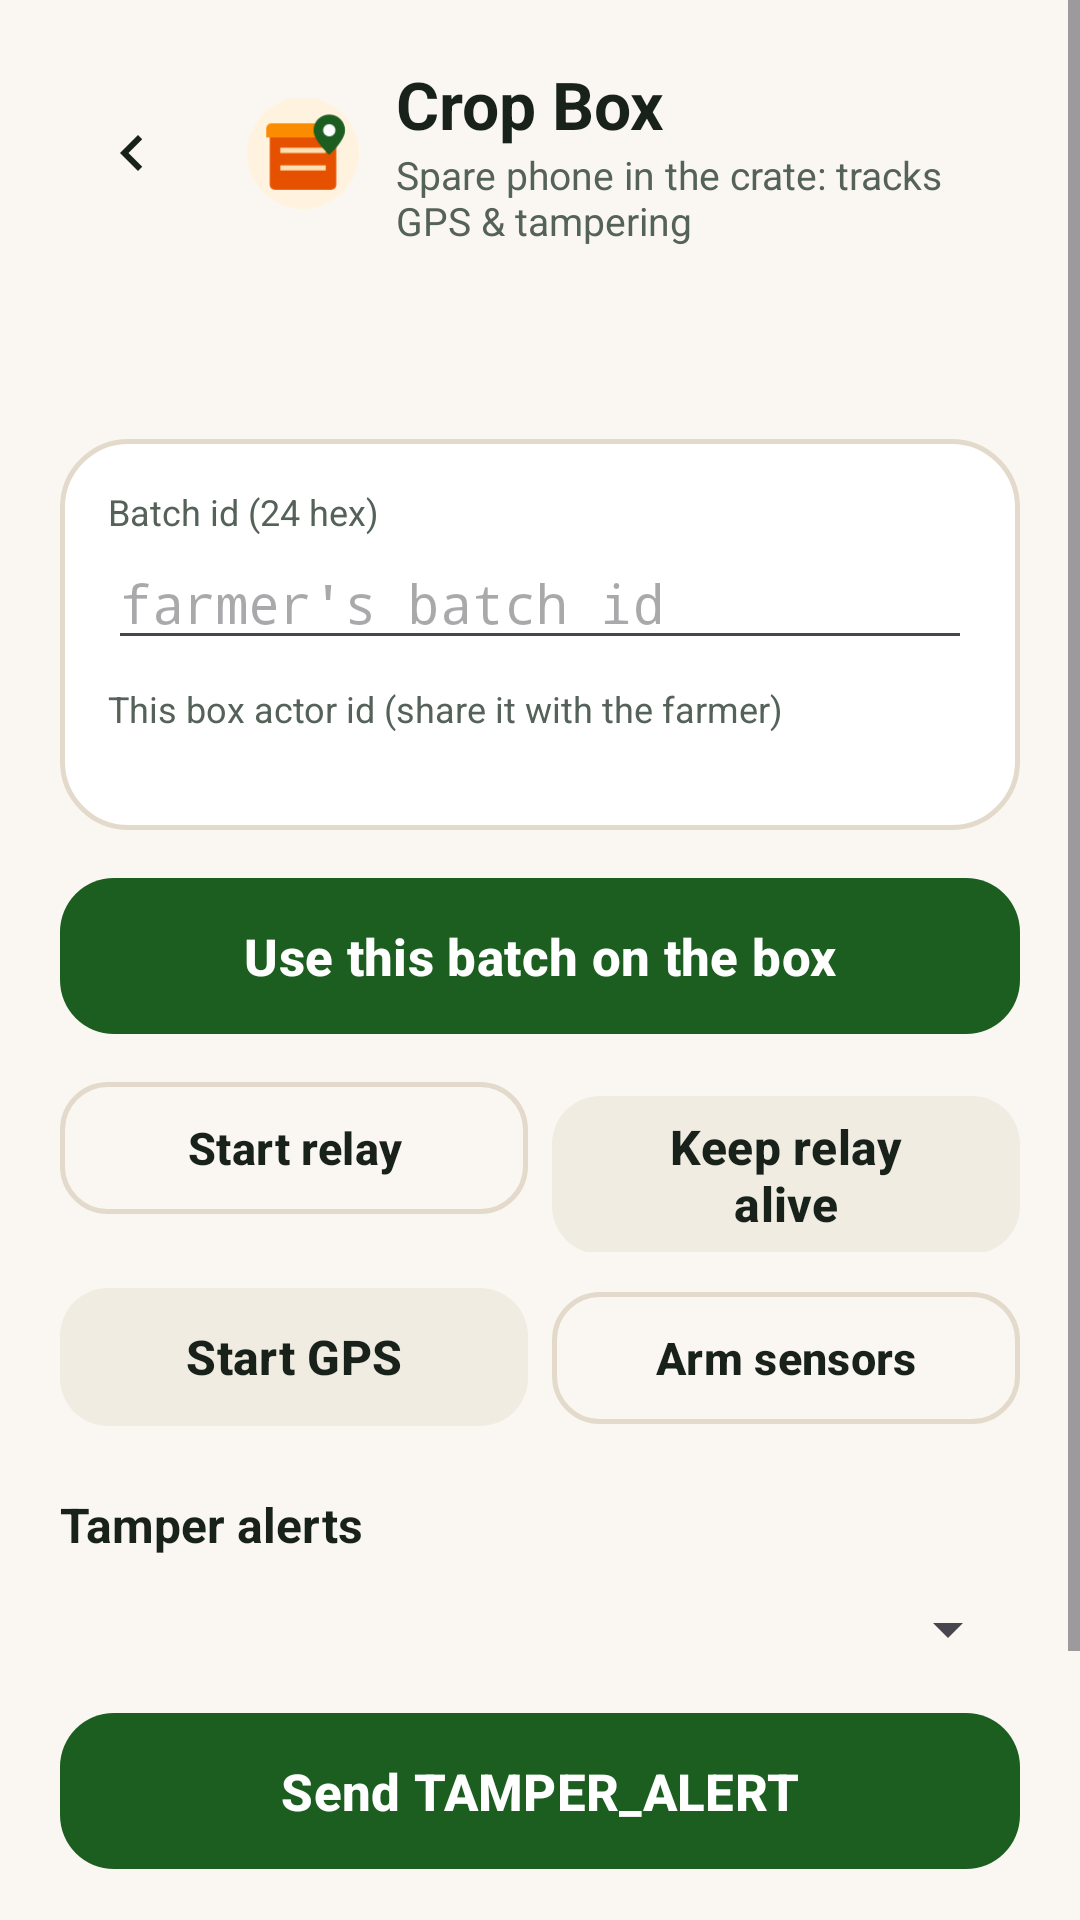

Icons on this 1080 × 1920 Android screen, each with the point to tap as point (x, y):
Back: point (131, 153)
